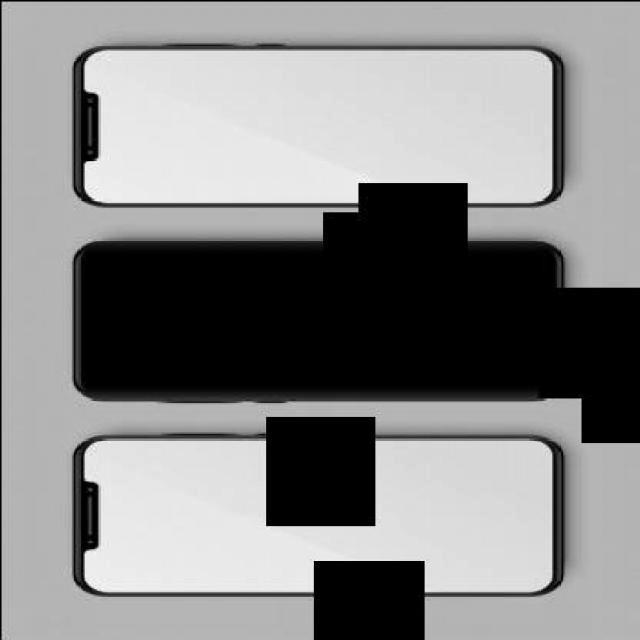fake: (68, 238, 566, 404), (68, 434, 566, 598), (68, 46, 564, 208)
